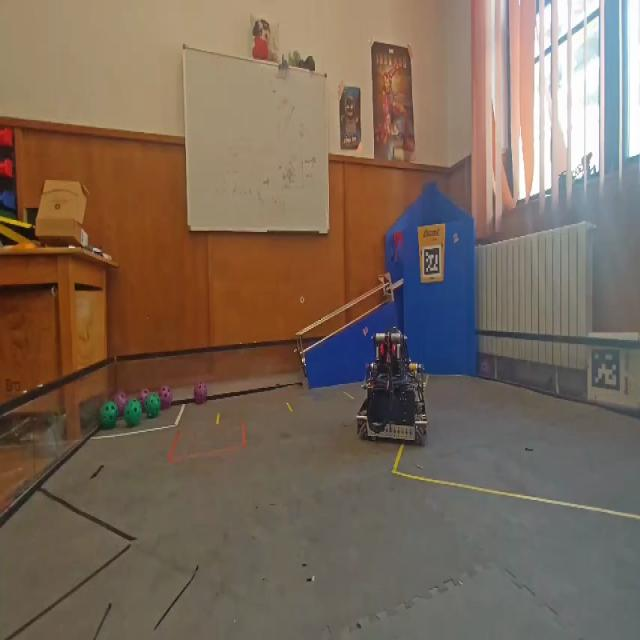artifact_green: (99, 402, 118, 429), (125, 399, 142, 427), (146, 393, 161, 419)
artifact_purple: (114, 391, 128, 417), (159, 386, 172, 410), (194, 382, 207, 405), (138, 388, 150, 410)
